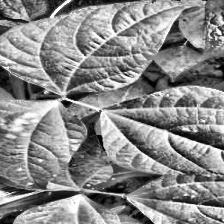Bean Rust: (97, 86, 224, 182), (0, 96, 88, 188), (127, 177, 224, 224)
